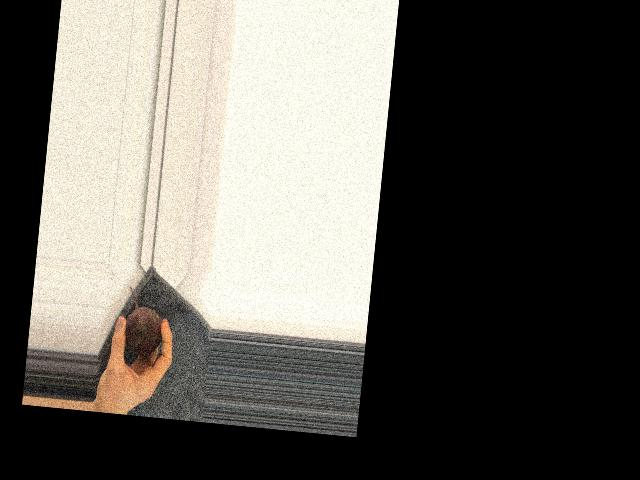beet: (122, 285, 166, 356)
